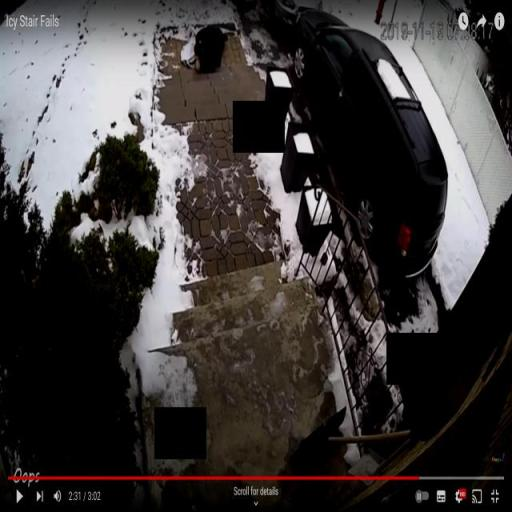Fall: (192, 22, 229, 75)
